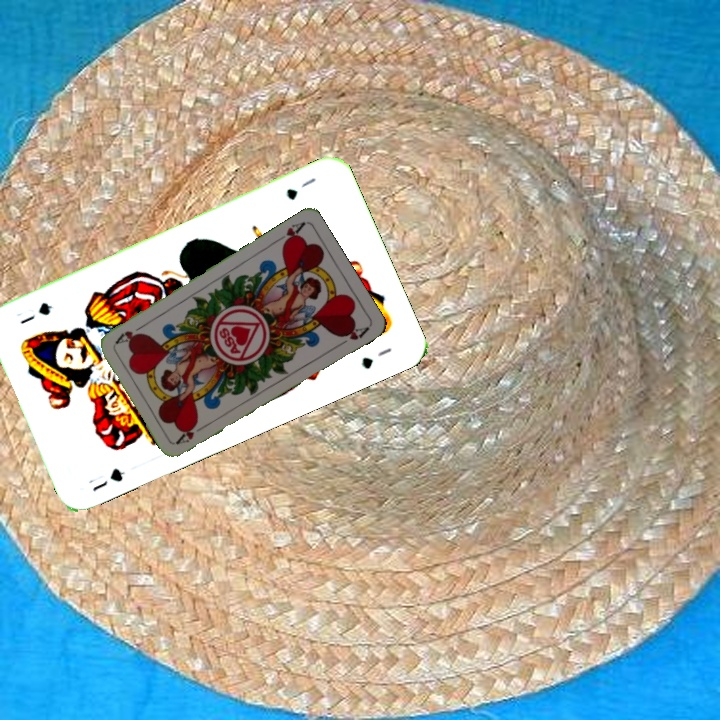GU: (84, 463, 128, 495), (282, 173, 318, 203)
HA: (270, 218, 307, 249), (173, 420, 210, 446)
